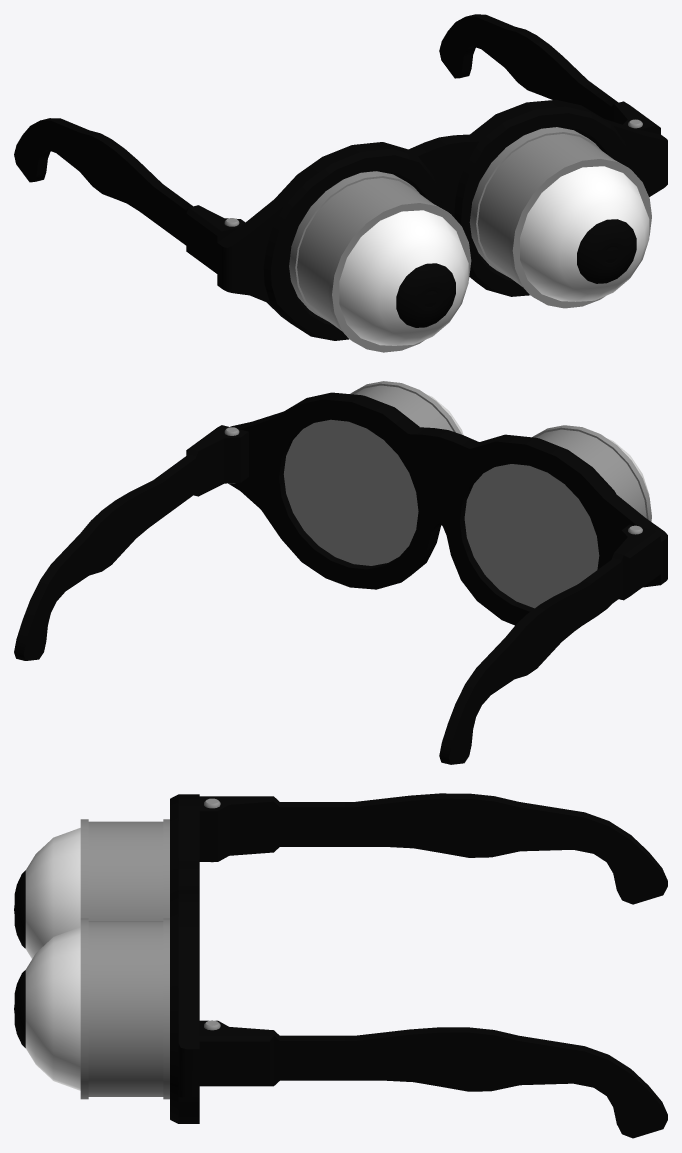
File: Prize_EyeballGlasses_Model.FBX
The picture shows the model from 3 angles, top to bottom: view 1: azimuth 30°, elevation 25°; view 2: azimuth 150°, elevation 25°; view 3: azimuth 270°, elevation 25°; orthographic projection. The views are drawn at different scales.
Visible parts, largest first — view 1: Baytek_EyeballGlasses; view 2: Baytek_EyeballGlasses; view 3: Baytek_EyeballGlasses.
Part boxes in pixels (x1=…): Baytek_EyeballGlasses: x1=14, y1=14, x2=667, y2=352; Baytek_EyeballGlasses: x1=14, y1=381, x2=667, y2=764; Baytek_EyeballGlasses: x1=14, y1=793, x2=667, y2=1138.
Bounding box in the file's own units: 34.52 × 13.83 × 39.13.
